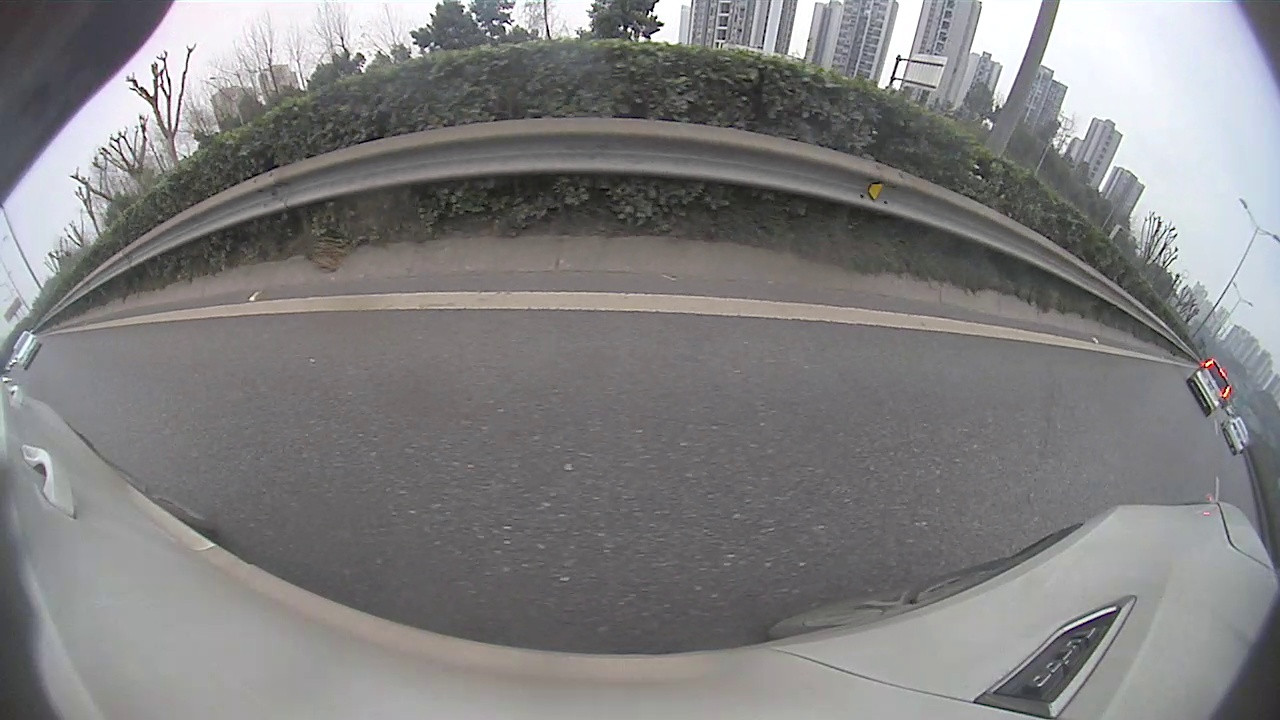car: (1189, 359, 1232, 417), (11, 332, 39, 369), (1223, 418, 1251, 454)
